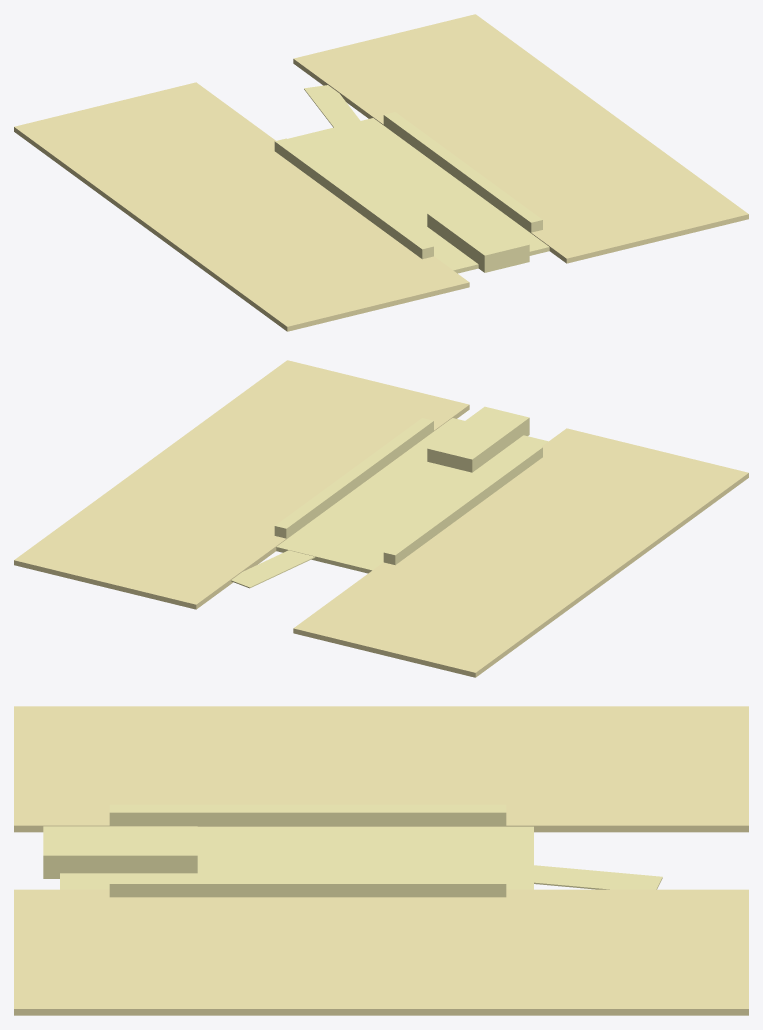
File: road_median_refuge_nose.glb
The picture shows the model from 3 angles, top to bottom: view 1: azimuth 30°, elevation 25°; view 2: azimuth 150°, elevation 25°; view 3: azimuth 270°, elevation 25°; orthographic projection. The views are drawn at different scales.
Parts seen in each view (by area): view 1: lane_left, lane_right, median_apron, median_nose, curb_right, curb_left, refuge_patch; view 2: lane_left, lane_right, median_apron, median_nose, curb_right, curb_left, refuge_patch; view 3: lane_right, lane_left, median_apron, curb_left, curb_right, median_nose, refuge_patch.
Part boxes in pixels (box(x1,y1,x2,y2)): lane_left: box(14, 82, 469, 331); lane_right: box(293, 14, 748, 263); median_apron: box(287, 118, 549, 273); median_nose: box(427, 202, 529, 272); curb_right: box(383, 112, 542, 232); curb_left: box(274, 138, 433, 259); refuge_patch: box(304, 85, 360, 127); lane_left: box(293, 428, 748, 677); lane_right: box(14, 360, 469, 609); median_apron: box(276, 418, 548, 573); median_nose: box(427, 406, 529, 472); curb_right: box(274, 418, 433, 539); curb_left: box(383, 444, 542, 565); refuge_patch: box(231, 550, 315, 588); lane_right: box(14, 889, 748, 1015); lane_left: box(14, 706, 748, 832); median_apron: box(60, 826, 533, 889); curb_left: box(109, 804, 506, 826); curb_right: box(109, 876, 506, 897); median_nose: box(43, 826, 197, 878); refuge_patch: box(534, 865, 662, 889).
Size of the model in its own units: 3.9 by 0.14 by 4.
